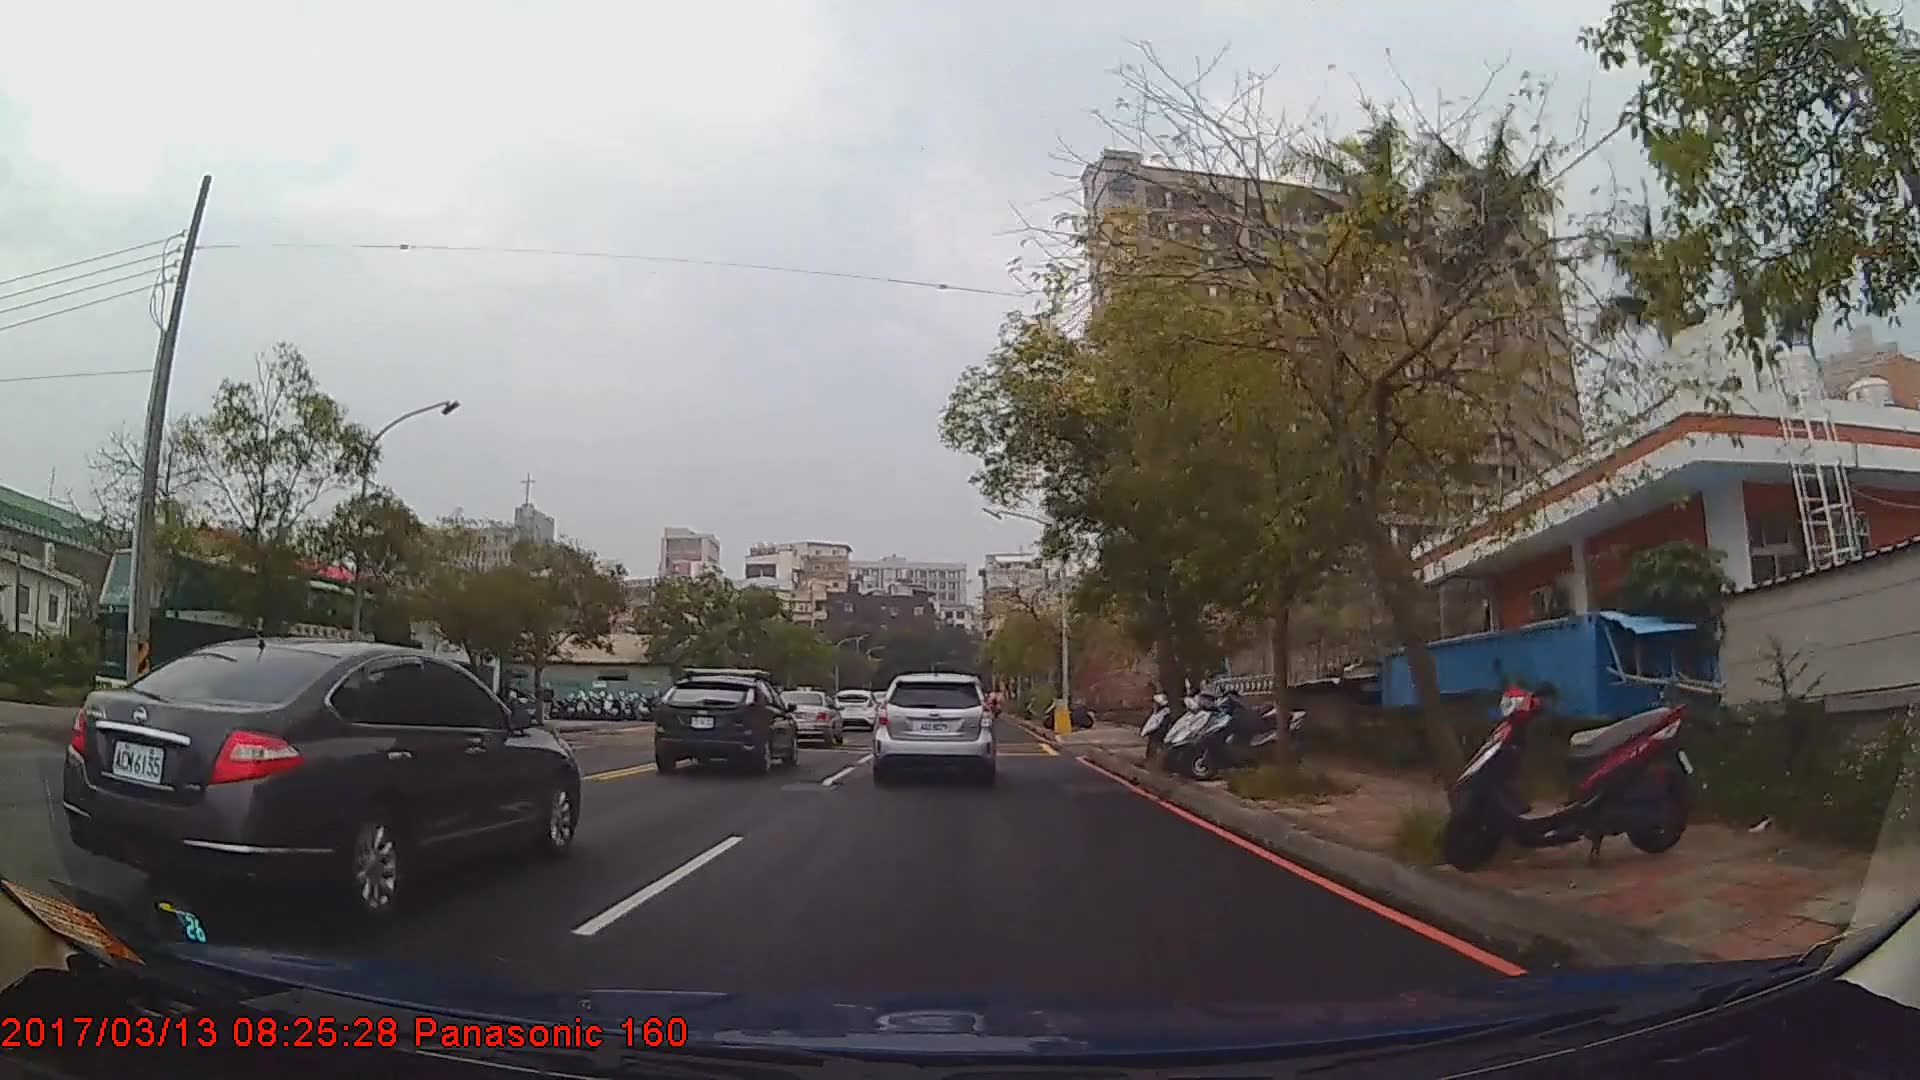vehicle: (58, 636, 578, 920), (80, 541, 411, 745), (651, 673, 799, 778), (872, 671, 994, 785), (770, 688, 840, 748), (829, 687, 878, 731)
